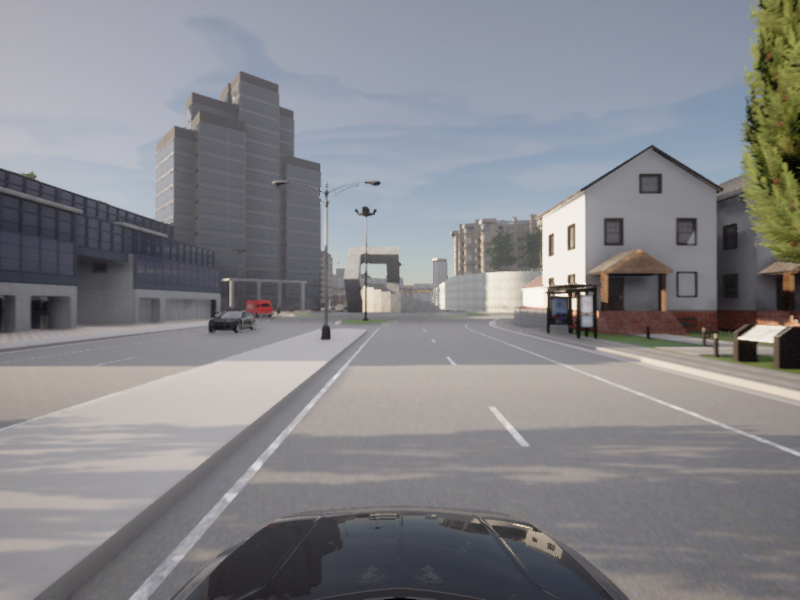vehicle: (0, 0, 799, 527), (202, 308, 259, 334)
